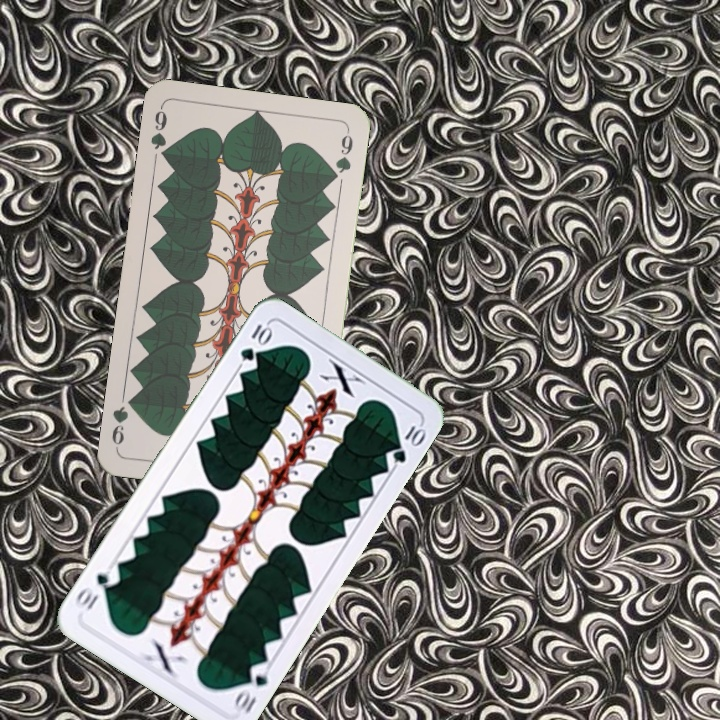G10: (230, 658, 273, 716), (236, 318, 274, 364)
G9: (146, 103, 172, 164)
